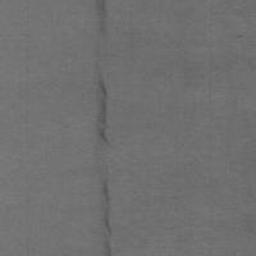Inclusion: (95, 72, 111, 147), (101, 182, 113, 256), (92, 0, 111, 37)
